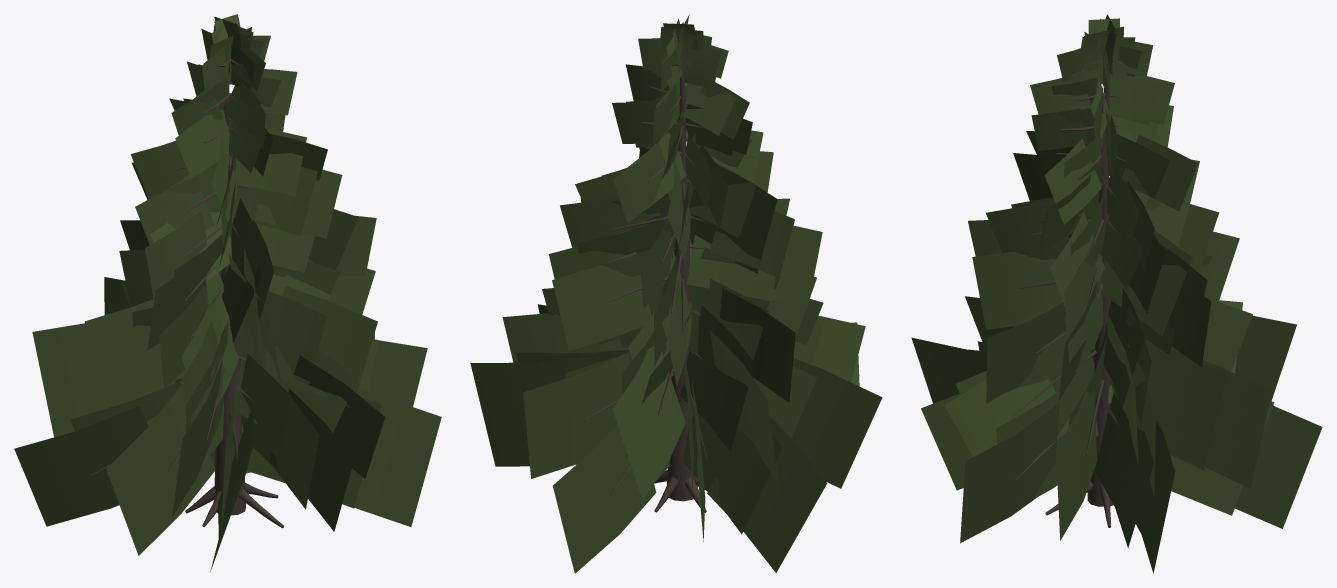
Rendered from tree_pine.glb.
3 renders of one model, left to right at view 1: azimuth 30°, elevation 25°; view 2: azimuth 150°, elevation 25°; view 3: azimuth 270°, elevation 25°, orthographic. The views are drawn at different scales.
Visible parts, largest first — view 1: tree_pine; view 2: tree_pine; view 3: tree_pine.
Boxes of the visible parts, box(x1,y1,x2,y2) form: tree_pine: box(14, 14, 441, 572); tree_pine: box(470, 14, 882, 573); tree_pine: box(911, 14, 1322, 573).
Size of what is drawn, in the model's own units: 7.64 by 10.2 by 7.61.
